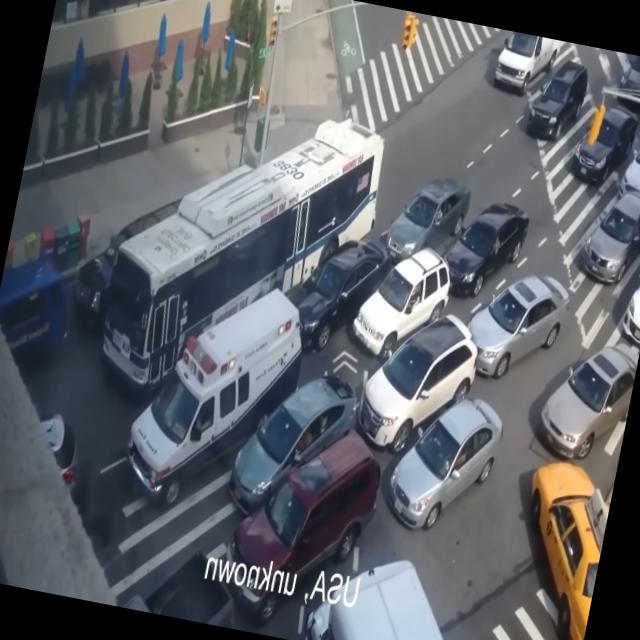ambulance: (118, 279, 301, 508)
